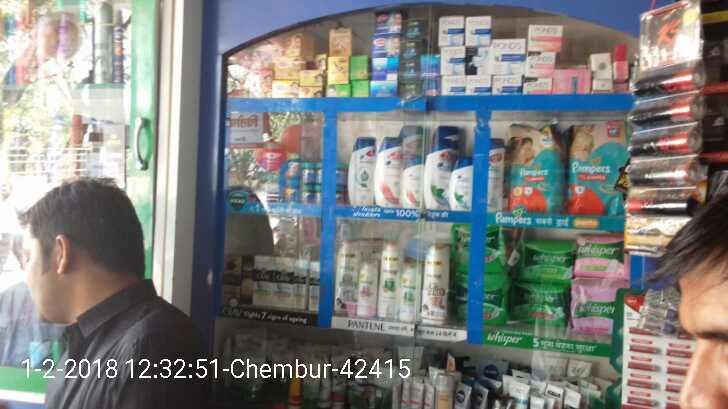vicks: (291, 157, 326, 203)
